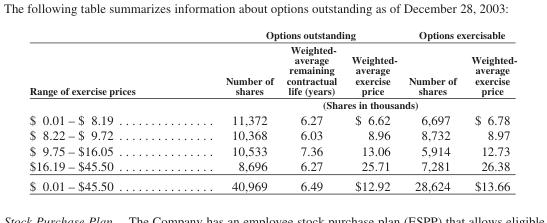table: (28, 28, 516, 192)
table column: (28, 28, 179, 192), (179, 28, 279, 192), (279, 28, 343, 192), (402, 28, 463, 192), (343, 28, 402, 192), (463, 28, 516, 192)
table column header: (28, 28, 516, 111)
table row: (28, 41, 516, 97), (28, 158, 516, 175), (28, 175, 516, 192), (28, 111, 516, 127), (28, 142, 516, 158), (28, 127, 516, 142), (28, 97, 516, 111), (28, 28, 516, 41)
table spanning cell: (28, 28, 179, 111), (179, 97, 516, 111), (179, 28, 402, 41), (402, 28, 516, 41)
